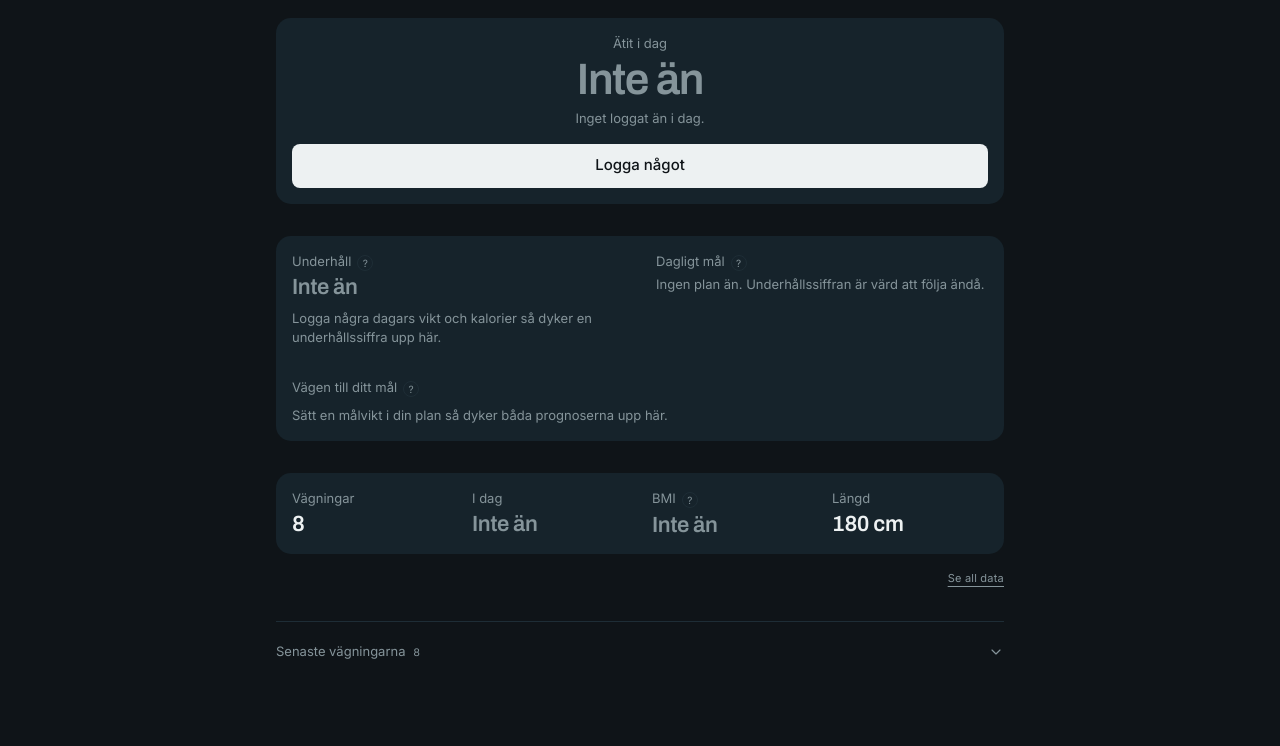
Test: the month calendar › reaches a reading the list does not show
(page scrolled)
Click the button with test id "recent-readings".
click(341, 651)  # box [276,630,1004,674]
(page scrolled)
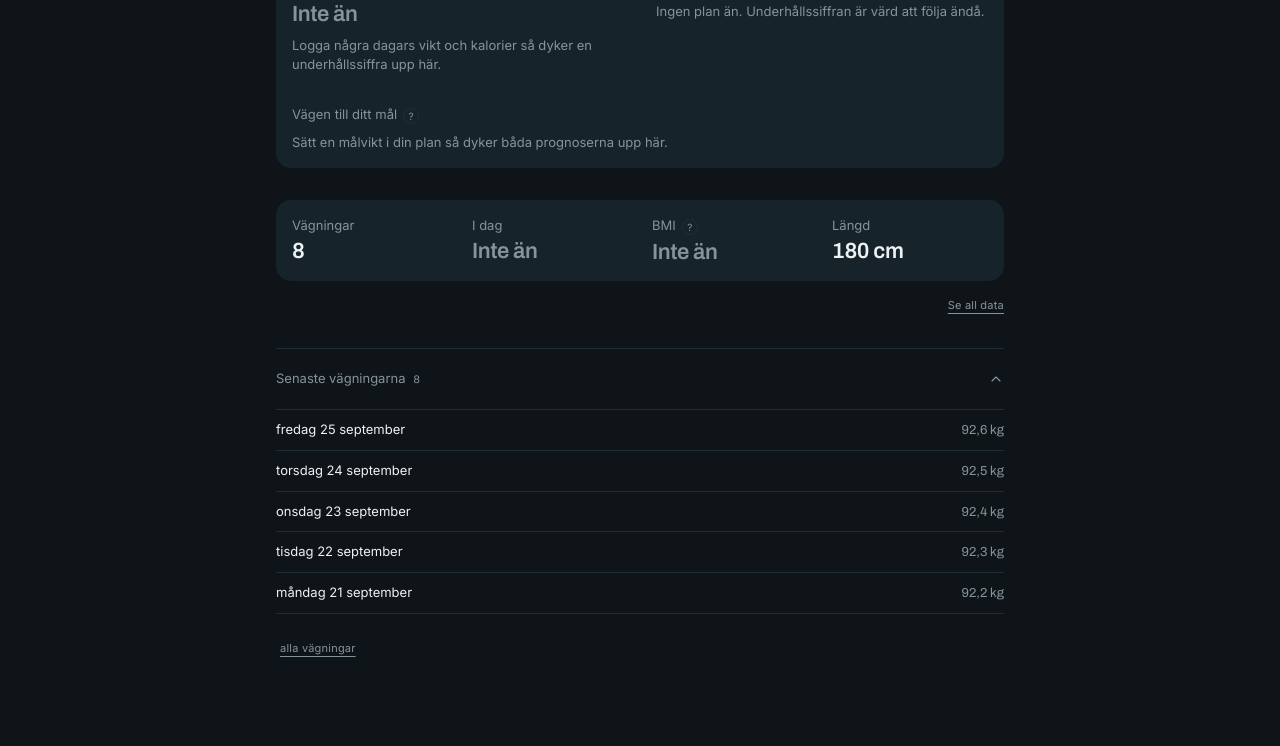
Click the button with test id "open-calendar".
click(318, 648)  # box [276,626,360,670]
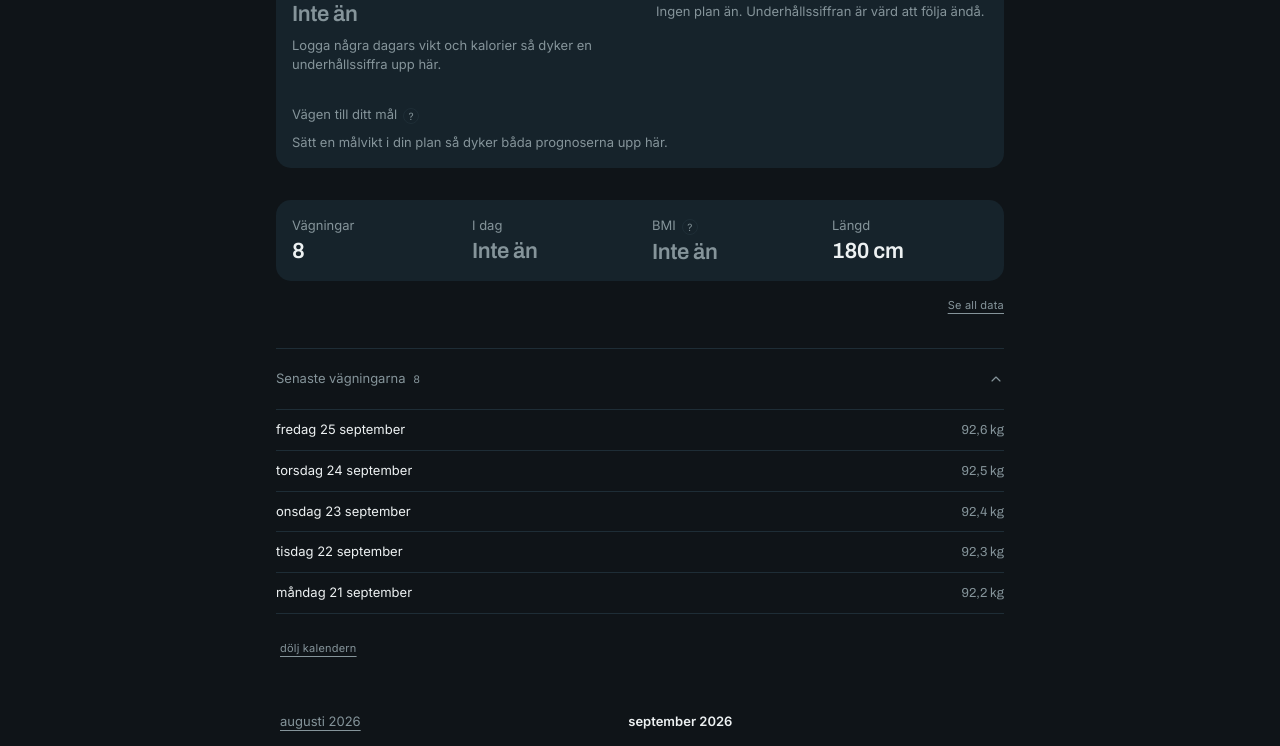
Click the button with test id "calendar-previous".
click(320, 722)  # box [276,700,365,744]
(page scrolled)
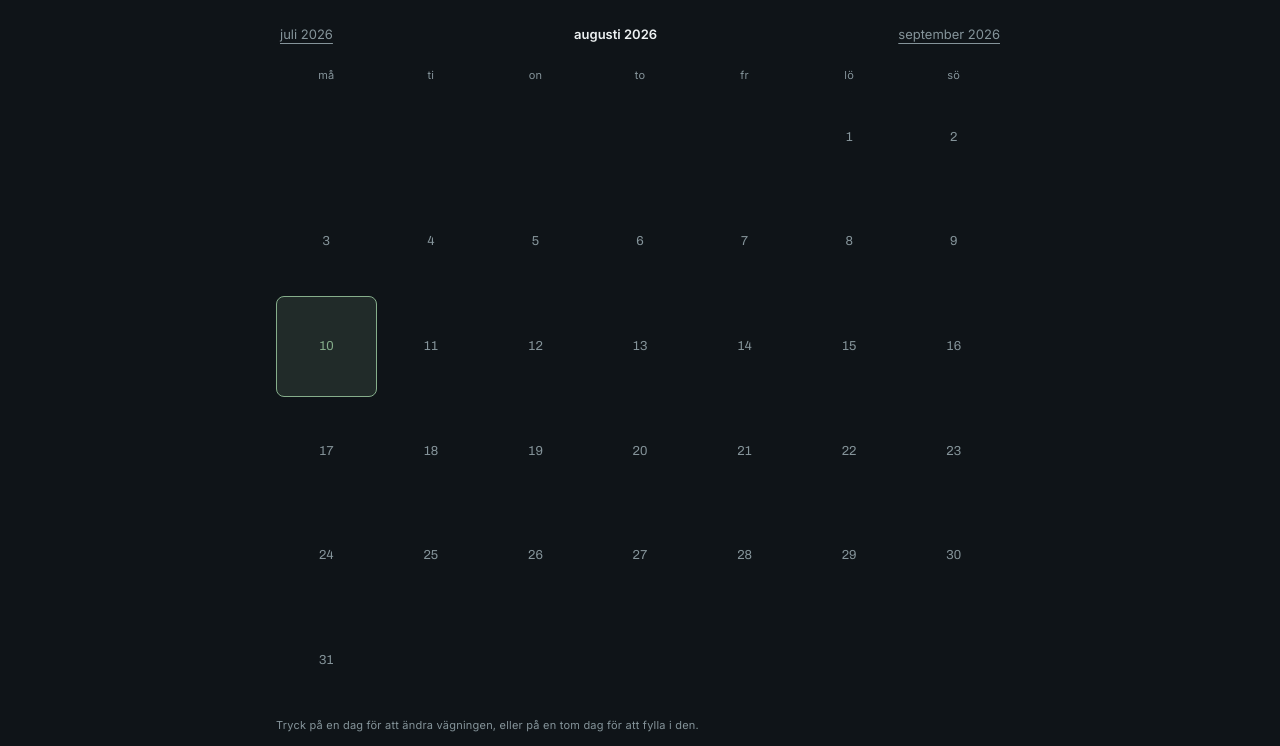
Click the cell "10".
click(326, 346)  # box [276,296,377,397]
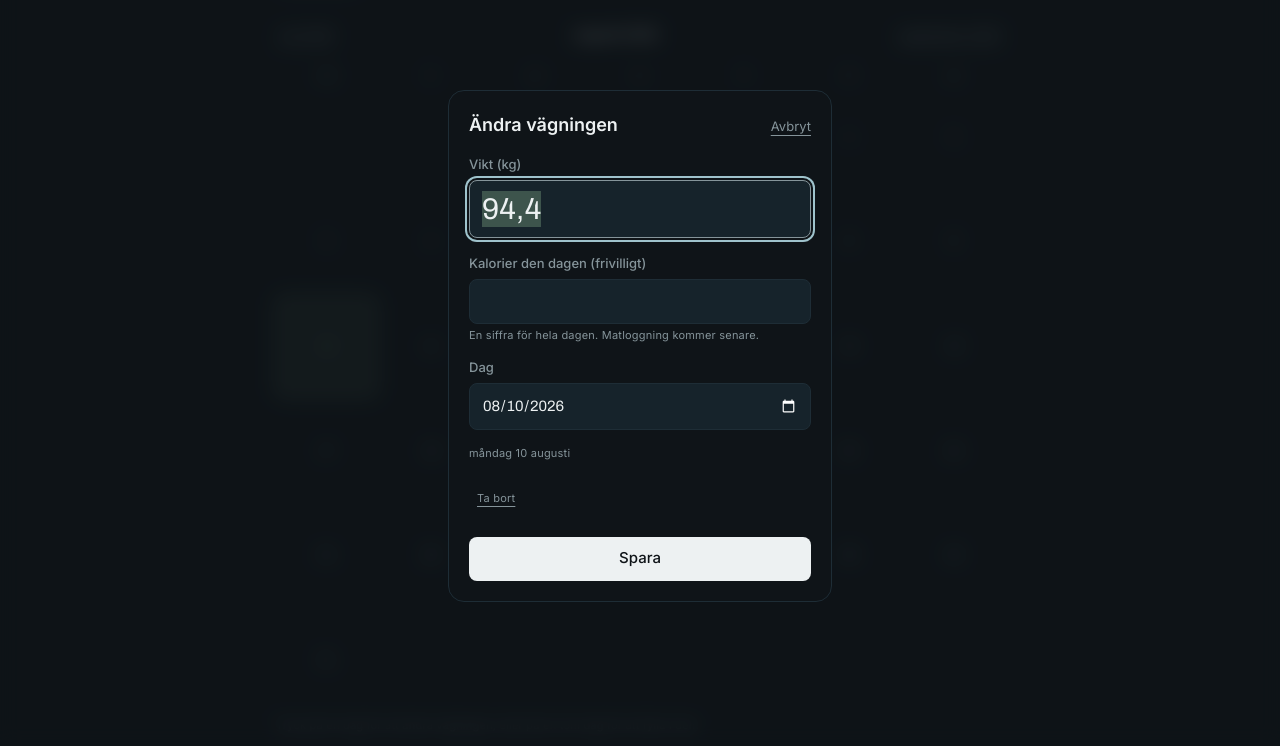
Expected: the date field labelled "Dag" holds "2026-08-10", [469,383,811,430]
Expected: the field labelled "Vikt (kg)" holds "94,4", [469,180,811,238]
Expected: the button with test id "delete-weight-entry" is shown, [469,477,523,521]
